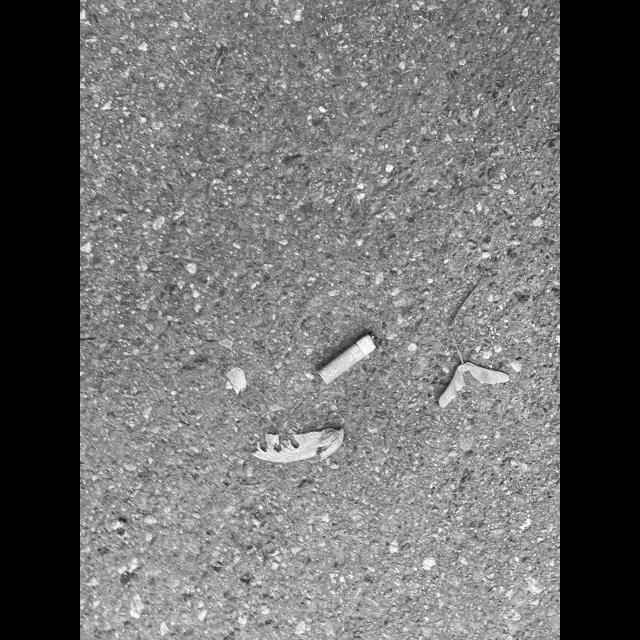cigarette: (317, 332, 377, 384)
